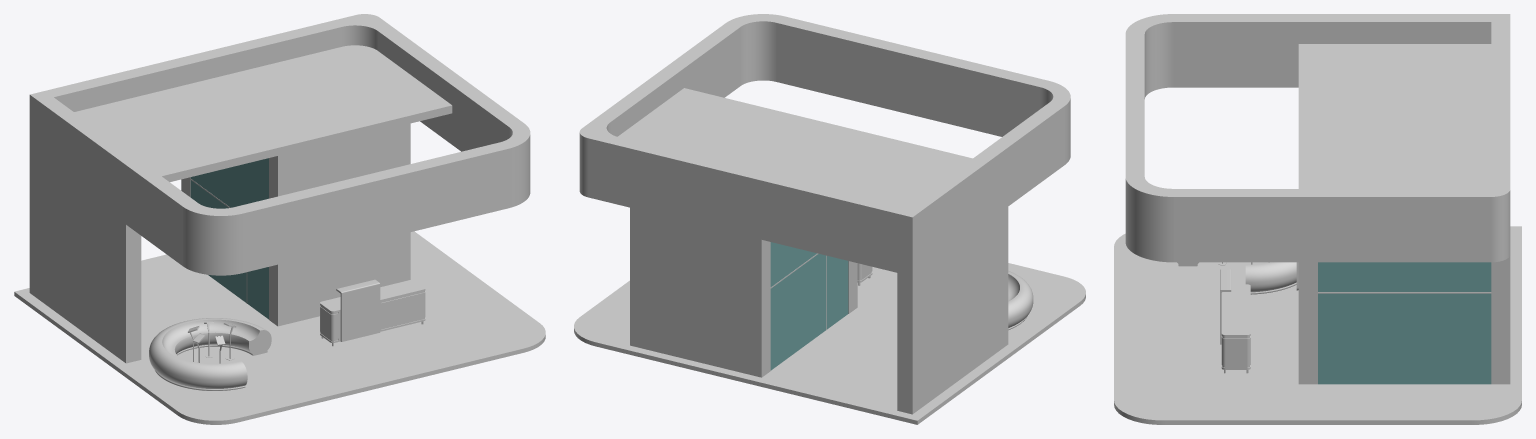
File: expoBooth5.glb
3 views of the same model, side by side, from view 1: azimuth 30°, elevation 25°; view 2: azimuth 150°, elevation 25°; view 3: azimuth 270°, elevation 25° (orthographic). The views are drawn at different scales.
Parts seen in each view (by area): view 1: ExpoBooth; view 2: ExpoBooth; view 3: ExpoBooth.
Part boxes in pixels (x1,y1,x2,y2): ExpoBooth: (14, 14, 545, 424); ExpoBooth: (574, 14, 1085, 424); ExpoBooth: (1114, 14, 1521, 424).
Bounding box in the file's own units: 0.0906 × 0.0485 × 0.0806.
